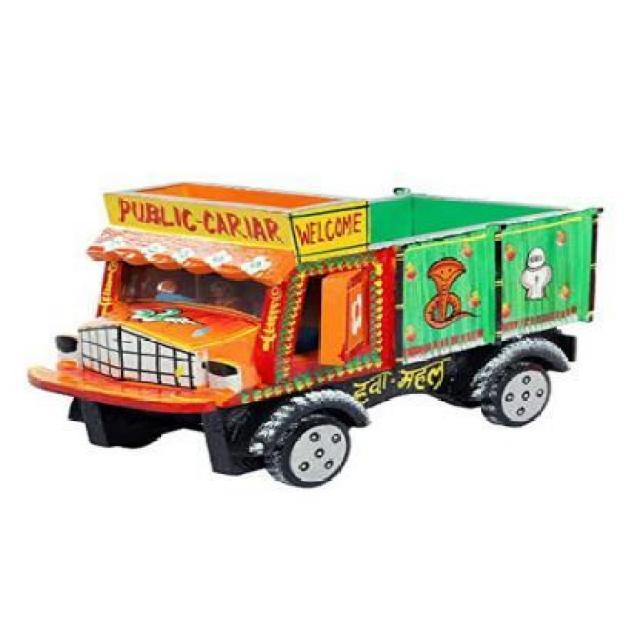vehicle: (21, 172, 608, 490)
